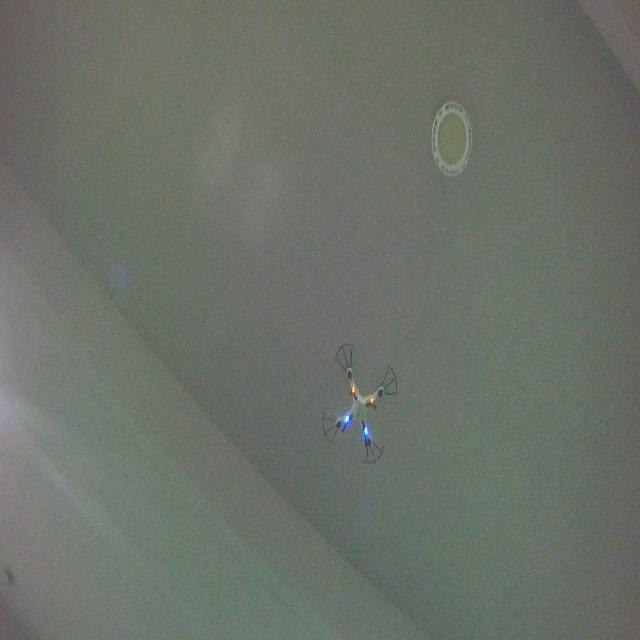drone: (319, 338, 400, 468)
